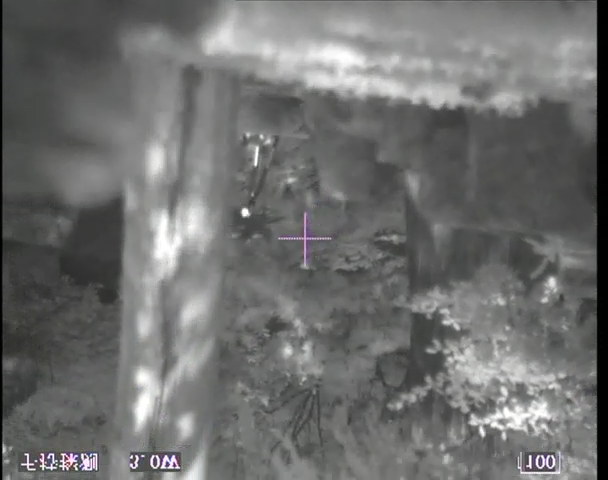my: (239, 207, 250, 218)
